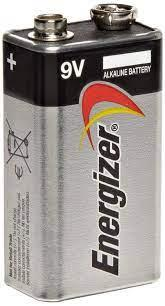9V Battery: (3, 4, 165, 306)
